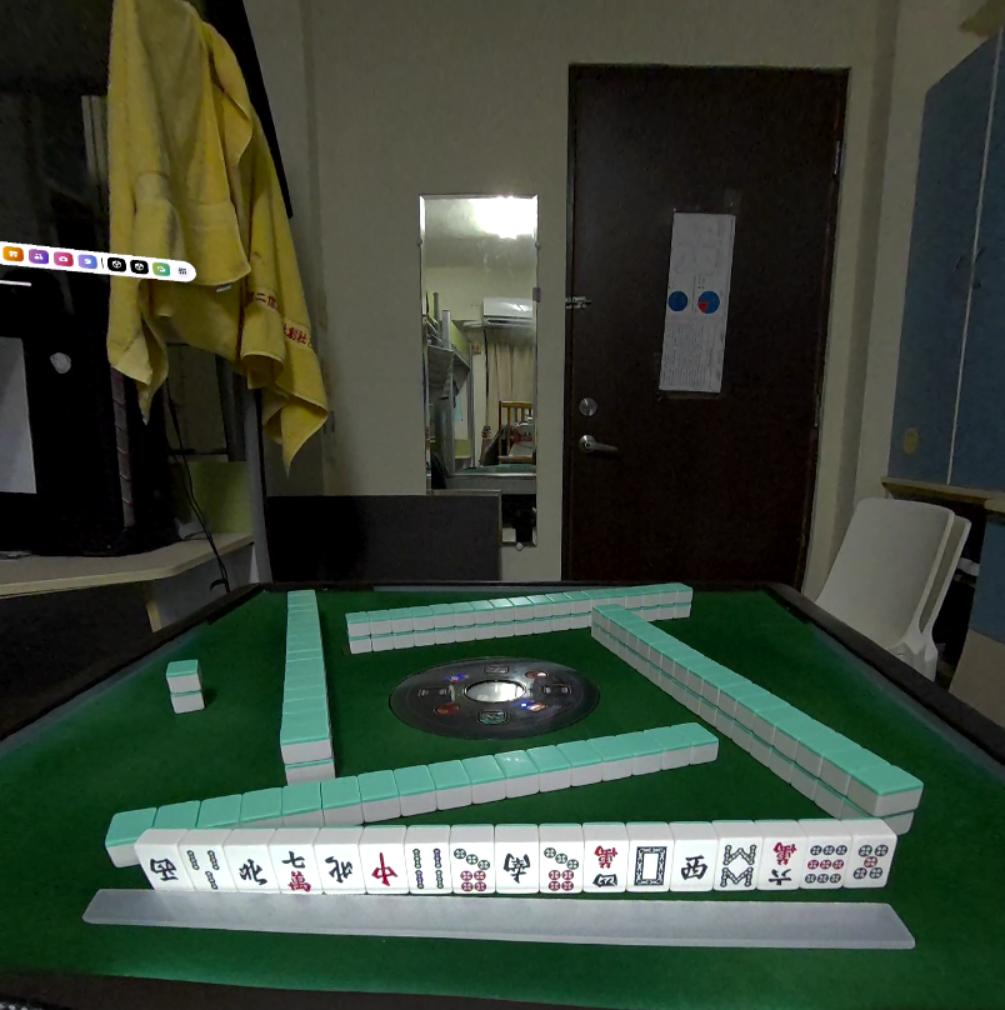mahjong: (135, 842, 188, 901), (443, 842, 494, 901), (313, 844, 363, 902), (848, 834, 896, 893), (715, 837, 764, 893), (802, 835, 850, 892), (175, 840, 227, 892), (358, 844, 410, 896), (757, 835, 806, 890), (628, 830, 667, 897), (267, 844, 314, 898), (488, 840, 535, 894), (538, 840, 580, 900), (677, 837, 716, 896), (407, 842, 448, 896), (588, 842, 628, 892), (225, 847, 266, 888)
